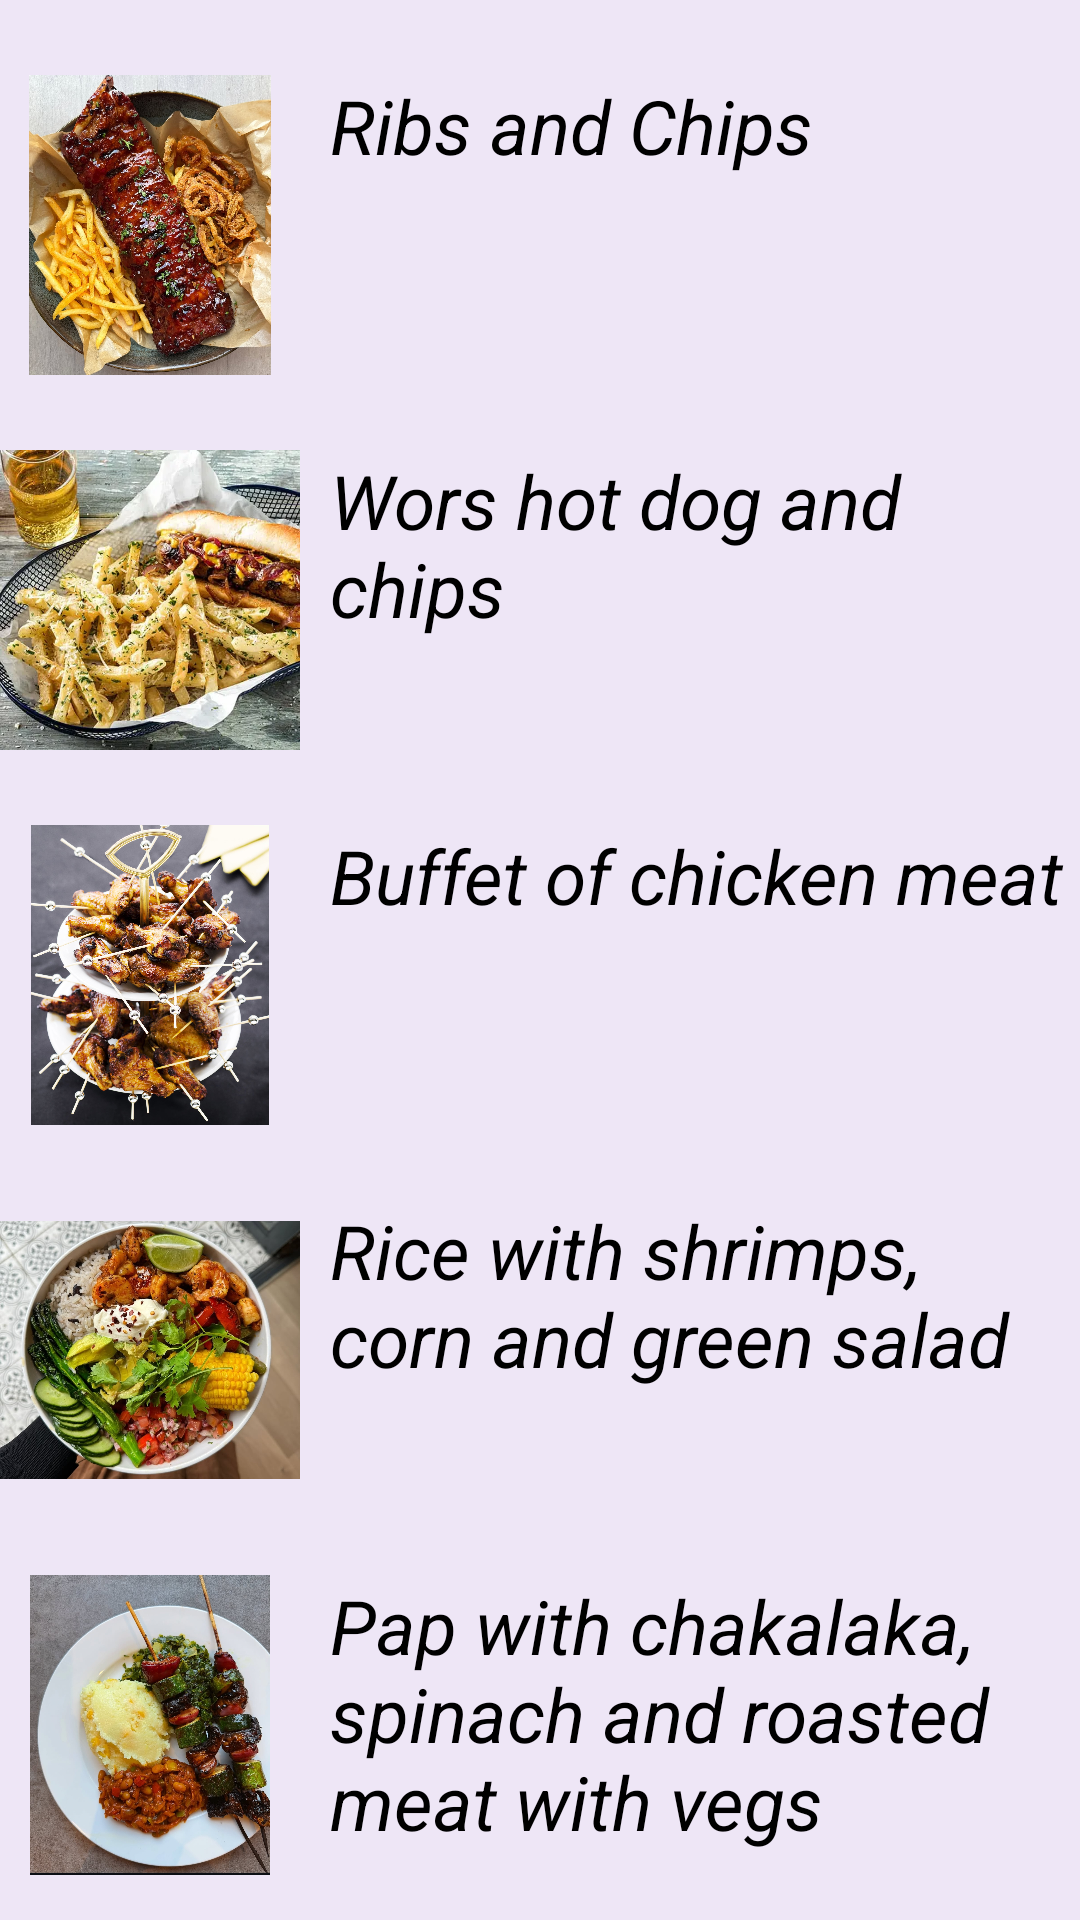

Screen size 1080px x 1920px. Icon name, then its center in pixels as (x=x, y=y):
lunch: (x=150, y=225), (x=150, y=600), (x=150, y=975), (x=150, y=1350), (x=150, y=1725)
